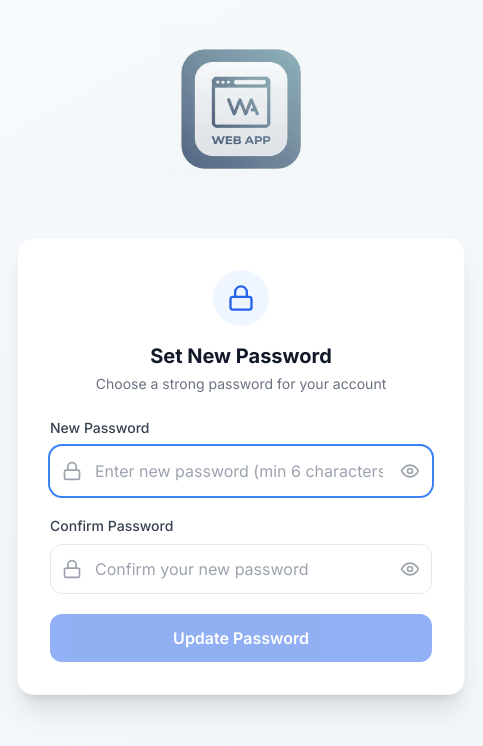
UpdatePasswordPage › shows error when password is too short
Type "abc" into the password field with placeholder "Enter new password (min 6 characters)" at (241, 471), box [50,446,432,496]
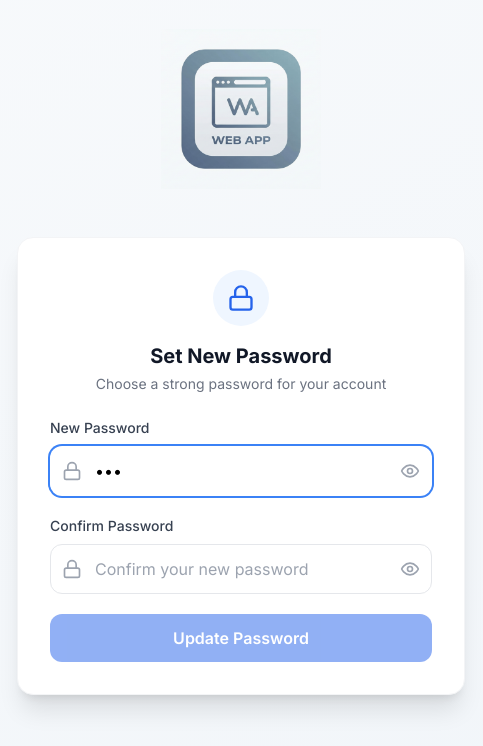
Type "abc" into the password field with placeholder "Confirm your new password" at (241, 569), box [50,544,432,594]
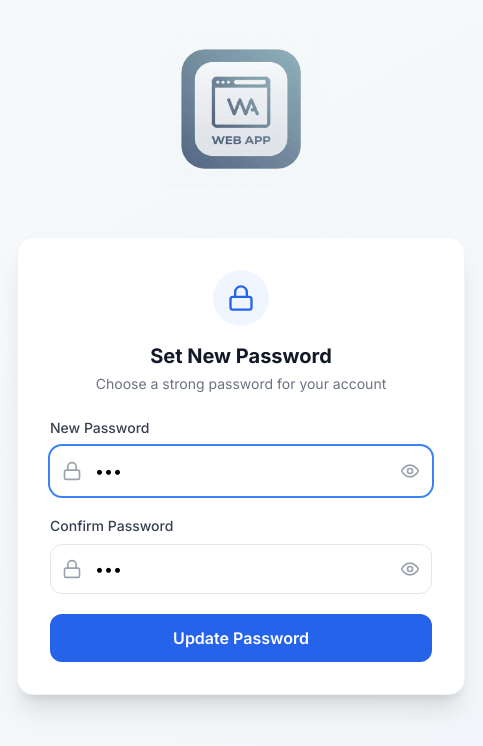
# Enable by manually bypassing disabled — submit the form directly
Submit the form, box [50,418,432,662]
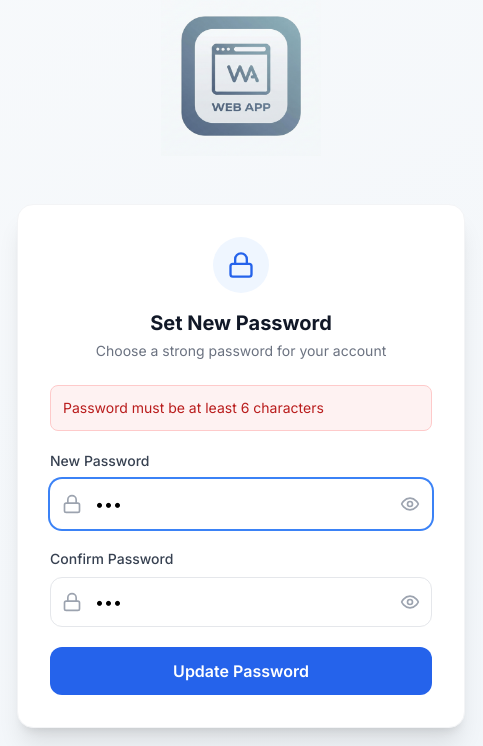
Check: the text "Password must be at least 6 characters" is shown, box [50,385,432,431]
